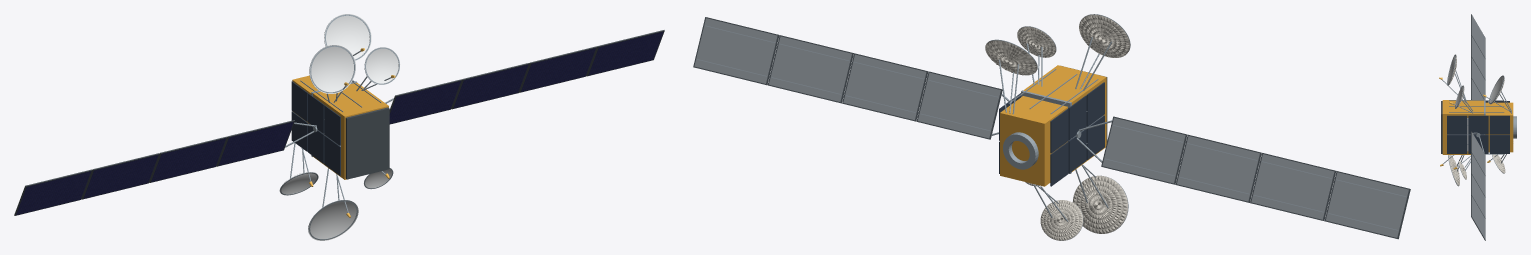
The model's file is yahsat-1a.glb.
The picture shows the model from 3 angles, left to right: view 1: azimuth 30°, elevation 25°; view 2: azimuth 150°, elevation 25°; view 3: azimuth 270°, elevation 25°; orthographic projection. The views are drawn at different scales.
Parts seen in each view (by area): view 1: Solar cell panel (×8), Radiator bay (×6), Earth-facing deck, Payload module, Reflector 3 face, Reflector 6 face, Reflector 1 face, Reflector 4 face, Reflector 5 face; view 2: Rear array substrate (×8), Radiator bay (×6), Solar panel frame (×8), Service module, Reflector 1 insulated back, Payload module, Reflector 3 insulated back, Reflector 5 insulated back, Reflector 6 insulated back, Reflector 4 insulated back, Launch adapter ring; view 3: Rear array substrate (×8), Radiator bay (×6), Payload module, Service module, Reflector 1 insulated back, Reflector 6 face, Reflector 5 insulated back, Reflector 3 face, Earth-facing deck, Launch adapter ring, Reflector 4 face, Reflector 2 insulated back (+6 smaller).
Part boxes in pixels (box(x1,y1,x2,y2)): Solar cell panel (×8): box(16, 31, 663, 215); Radiator bay (×6): box(291, 81, 340, 175); Earth-facing deck: box(345, 107, 389, 179); Payload module: box(313, 82, 388, 179); Reflector 3 face: box(309, 45, 355, 93); Reflector 6 face: box(324, 14, 371, 60); Reflector 1 face: box(308, 200, 358, 240); Reflector 4 face: box(365, 47, 400, 84); Reflector 5 face: box(280, 172, 318, 195); Rear array substrate (×8): box(694, 18, 1408, 237); Radiator bay (×6): box(1050, 82, 1104, 186); Solar panel frame (×8): box(693, 17, 1410, 239); Service module: box(1000, 96, 1067, 186); Reflector 1 insulated back: box(1072, 175, 1127, 233); Payload module: box(1023, 65, 1106, 171); Reflector 3 insulated back: box(1079, 14, 1130, 57); Reflector 5 insulated back: box(1040, 200, 1082, 240); Reflector 6 insulated back: box(985, 40, 1037, 75); Reflector 4 insulated back: box(1017, 26, 1055, 57); Launch adapter ring: box(1003, 132, 1038, 169); Rear array substrate (×8): box(1471, 15, 1485, 239); Radiator bay (×6): box(1447, 115, 1509, 153); Payload module: box(1442, 100, 1483, 154); Service module: box(1485, 102, 1513, 152); Reflector 1 insulated back: box(1448, 155, 1459, 185); Reflector 6 face: box(1489, 75, 1503, 103); Reflector 5 insulated back: box(1492, 154, 1505, 173); Reflector 3 face: box(1447, 54, 1455, 85); Earth-facing deck: box(1441, 101, 1442, 153); Launch adapter ring: box(1513, 116, 1516, 138); Reflector 4 face: box(1455, 85, 1463, 107); Reflector 2 insulated back: box(1459, 161, 1466, 179).
Size of the model in its own units: 30.37 by 8.93 by 4.93.
10 materials, 1 textured.
